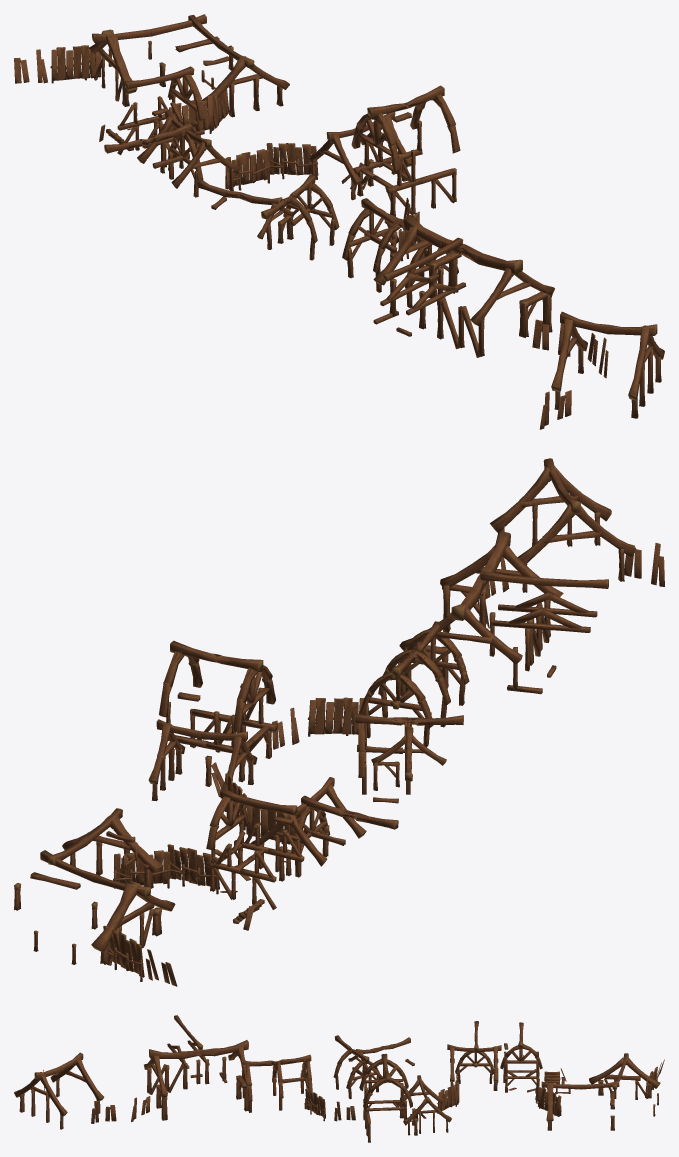
The model's file is WoodBlock1.FBX.
3 renders of one model, top to bottom at view 1: azimuth 30°, elevation 25°; view 2: azimuth 150°, elevation 25°; view 3: azimuth 270°, elevation 25°, orthographic. The views are drawn at different scales.
Parts seen in each view (by area): view 1: Object4551; view 2: Object4551; view 3: Object4551.
Part boxes in pixels (left/top/right/bottom): Object4551: left=14, top=14, right=664, bottom=429; Object4551: left=14, top=458, right=664, bottom=986; Object4551: left=14, top=1015, right=664, bottom=1142.
Size of the model in its own units: 2558 by 976 by 8356.
